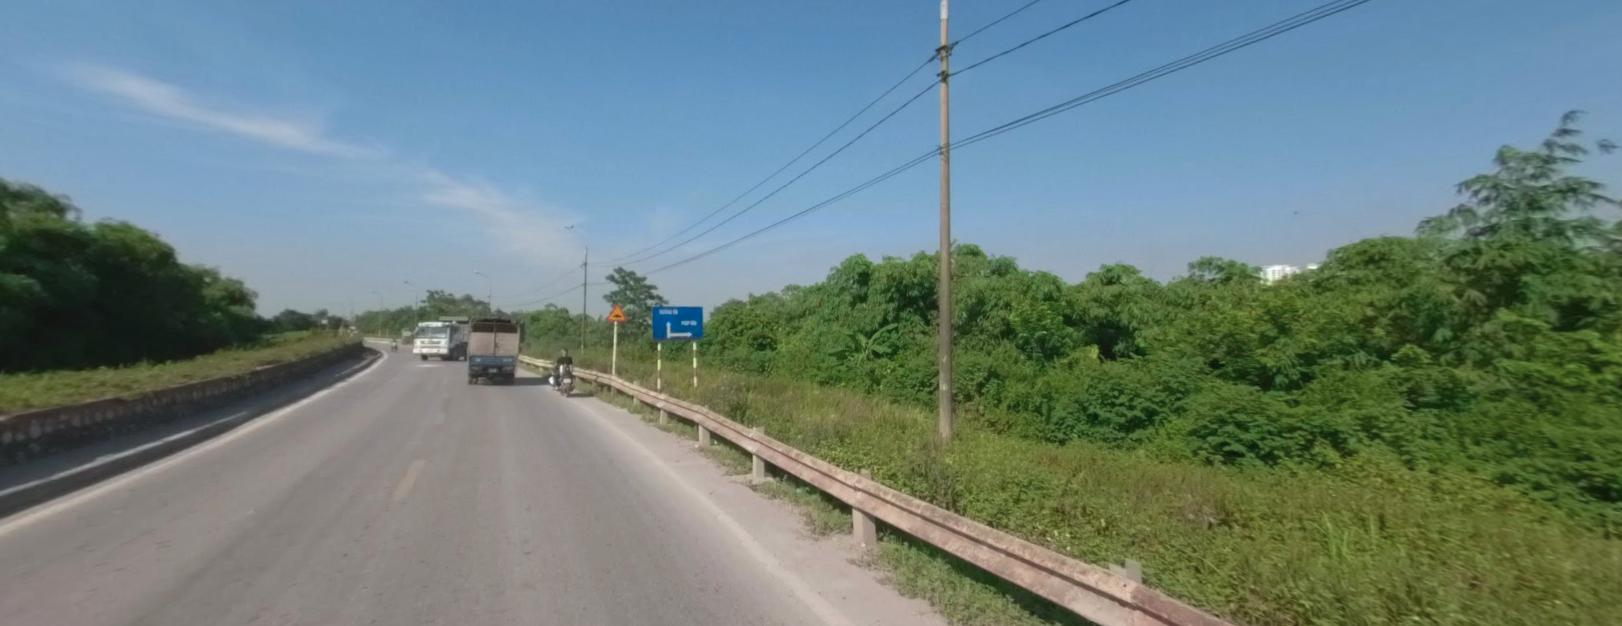Nguy hiem: (606, 302, 625, 320)
